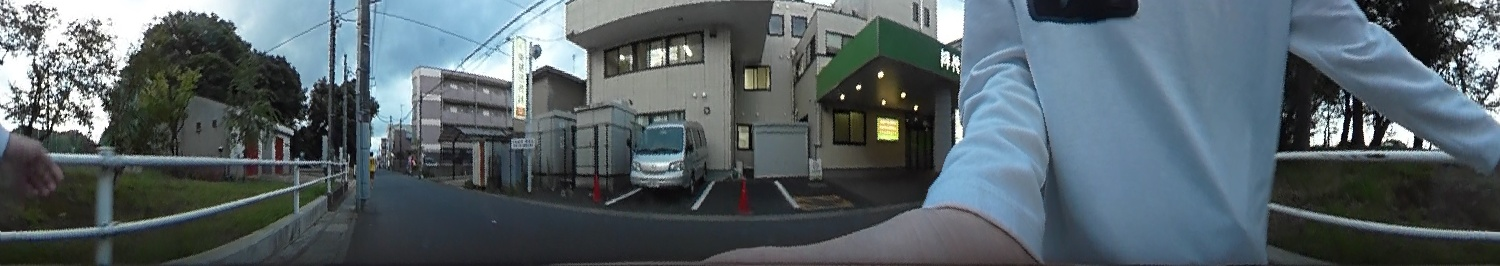difficult_person: (366, 148, 376, 185)
